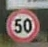limite 50: (5, 9, 40, 42)
